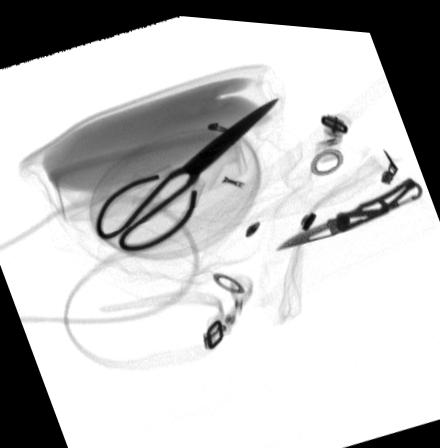Knife: (275, 169, 423, 246)
Scissors: (94, 92, 280, 250)
